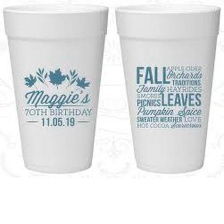paper_cup: (110, 0, 224, 177), (0, 0, 111, 178)
